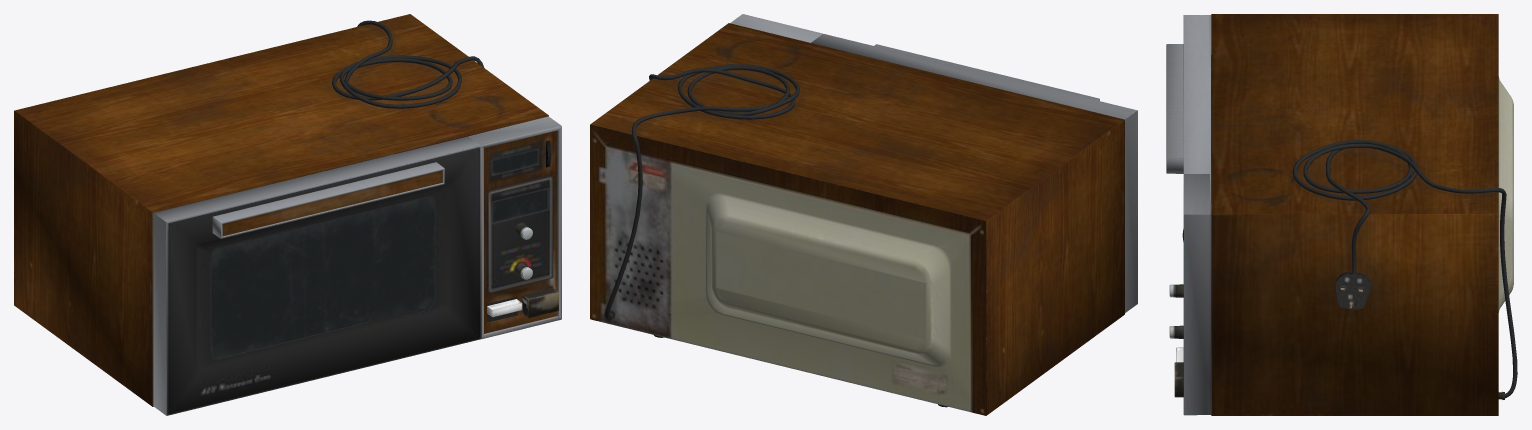
Rendered from vintage_microwave.glb.
3 views of the same model, side by side, from view 1: azimuth 30°, elevation 25°; view 2: azimuth 150°, elevation 25°; view 3: azimuth 270°, elevation 25° (orthographic). The views are drawn at different scales.
Parts seen in each view (by area): view 1: vintage_microwave; view 2: vintage_microwave; view 3: vintage_microwave.
Part boxes in pixels (x1,y1,x2,y2): vintage_microwave: (14,14,561,415); vintage_microwave: (590,14,1137,415); vintage_microwave: (1166,14,1517,415).
Bounding box in the file's own units: 1.07 × 0.5259 × 0.7456.
2 materials, 2 textured.
